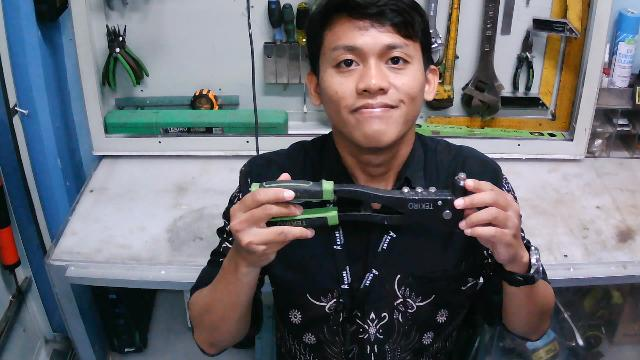tang_rivet: (248, 170, 470, 233)
